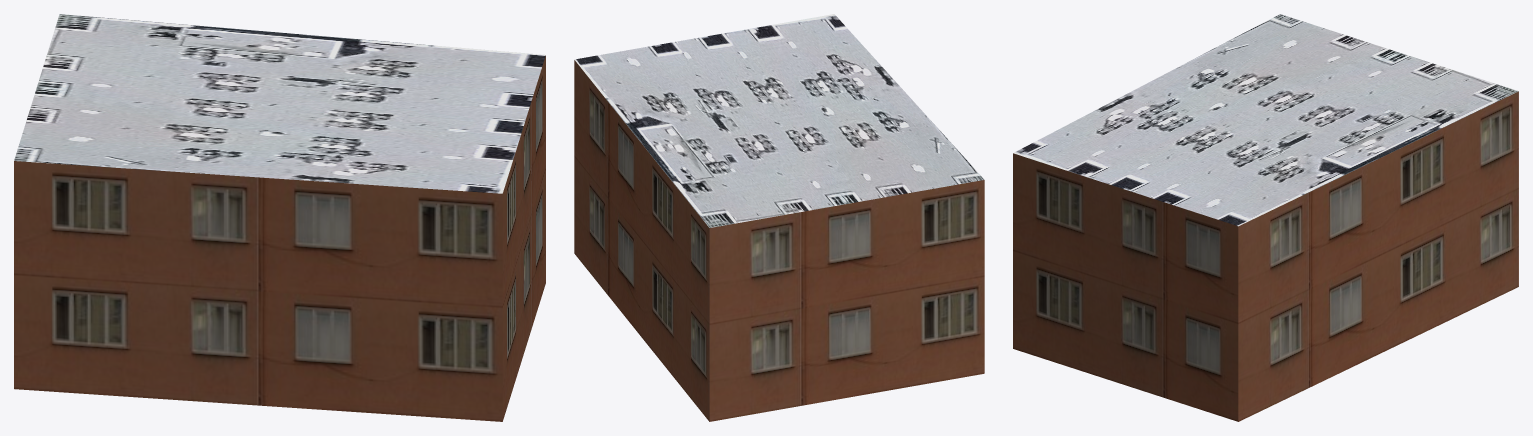
File: ResTex__2324.fbx
3 renders of one model, left to right at view 1: azimuth 30°, elevation 25°; view 2: azimuth 150°, elevation 25°; view 3: azimuth 270°, elevation 25°, orthographic. The views are drawn at different scales.
Visible parts, largest first — view 1: CityEngineMaterial_20_m, CityEngineMaterial_2_m; view 2: CityEngineMaterial_20_m, CityEngineMaterial_2_m; view 3: CityEngineMaterial_20_m, CityEngineMaterial_2_m.
Part boxes in pixels (left/top/right/bottom): CityEngineMaterial_20_m: left=14, top=55, right=545, bottom=421; CityEngineMaterial_2_m: left=14, top=14, right=545, bottom=193; CityEngineMaterial_20_m: left=574, top=60, right=984, bottom=421; CityEngineMaterial_2_m: left=574, top=14, right=984, bottom=227; CityEngineMaterial_20_m: left=1013, top=91, right=1518, bottom=421; CityEngineMaterial_2_m: left=1013, top=14, right=1518, bottom=226.
Size of the model in its own units: 13.97 by 6 by 14.06.
2 materials, 2 textured.
